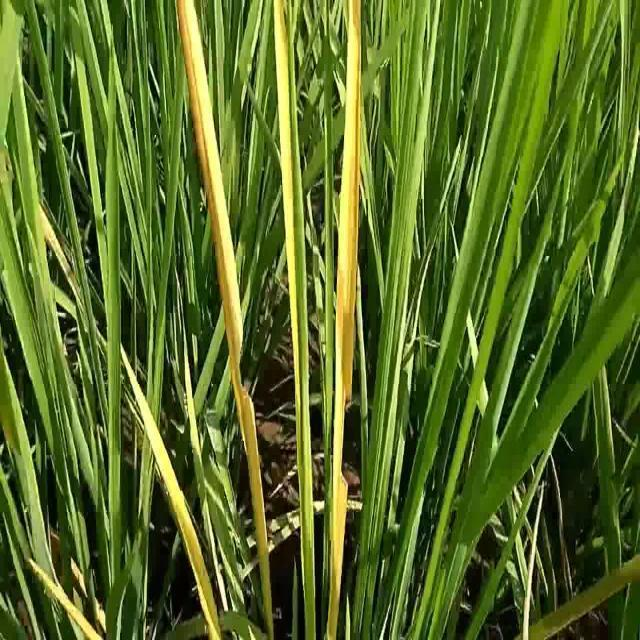Rice Tungro: (172, 1, 283, 585), (116, 335, 220, 640), (325, 3, 368, 589), (272, 5, 320, 523), (23, 551, 103, 640)
